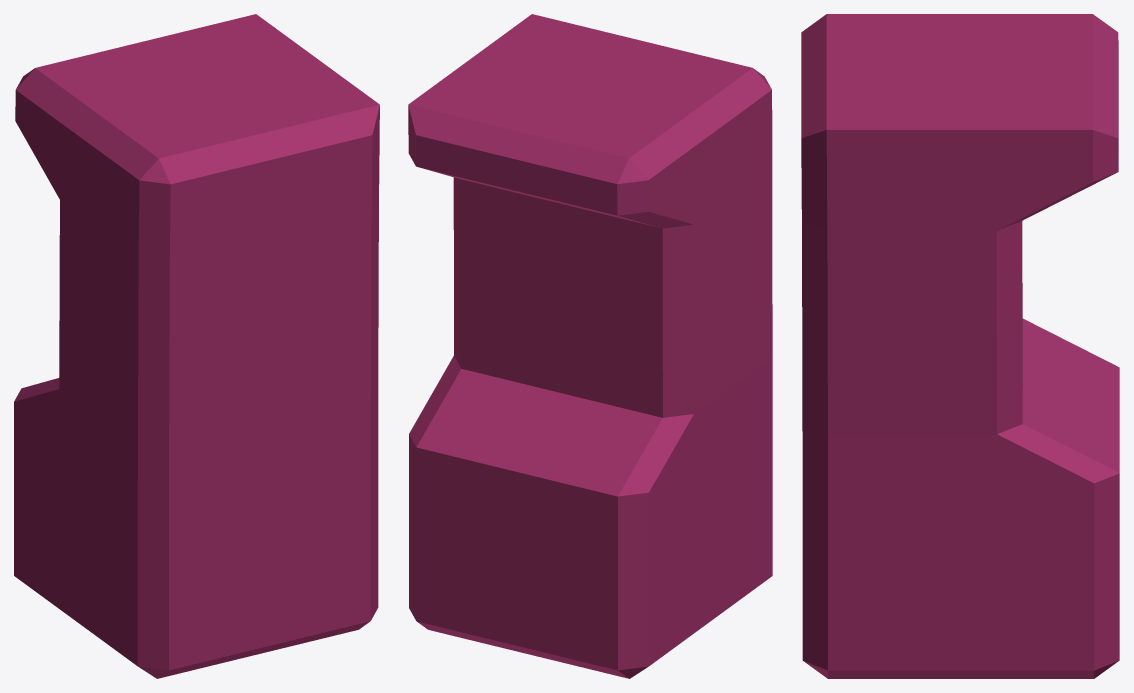
The model's file is atm.fbx.
The picture shows the model from 3 angles, left to right: view 1: azimuth 30°, elevation 25°; view 2: azimuth 150°, elevation 25°; view 3: azimuth 270°, elevation 25°; orthographic projection. The views are drawn at different scales.
Visible parts, largest first — view 1: Cube; view 2: Cube, Cube.003; view 3: Cube.
Part boxes in pixels (box(x1,y1,x2,y2)): Cube: box(14, 14, 379, 678); Cube: box(408, 14, 772, 678); Cube.003: box(461, 179, 662, 417); Cube: box(801, 14, 1119, 678).
Bounding box in the file's own units: 6.4 × 6.8 × 13.19.
